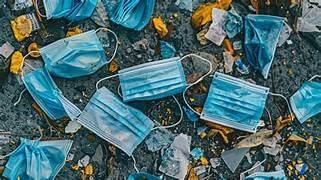Mask: (78, 54, 212, 163), (96, 54, 212, 128), (96, 54, 211, 101), (78, 87, 153, 155), (200, 73, 268, 131), (40, 28, 117, 77), (118, 57, 186, 101), (22, 68, 80, 119), (3, 138, 71, 179), (244, 14, 283, 78), (104, 0, 154, 29), (35, 0, 97, 20), (290, 81, 320, 122), (65, 0, 97, 20), (223, 8, 242, 37), (43, 0, 72, 18), (244, 170, 285, 179), (160, 41, 175, 58), (127, 172, 159, 179)
